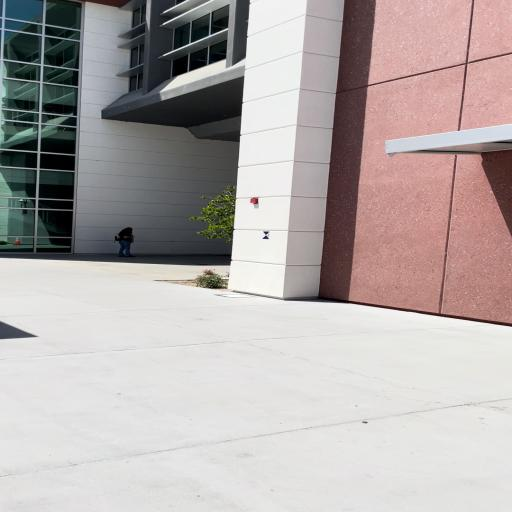target2: (261, 231, 271, 240)
